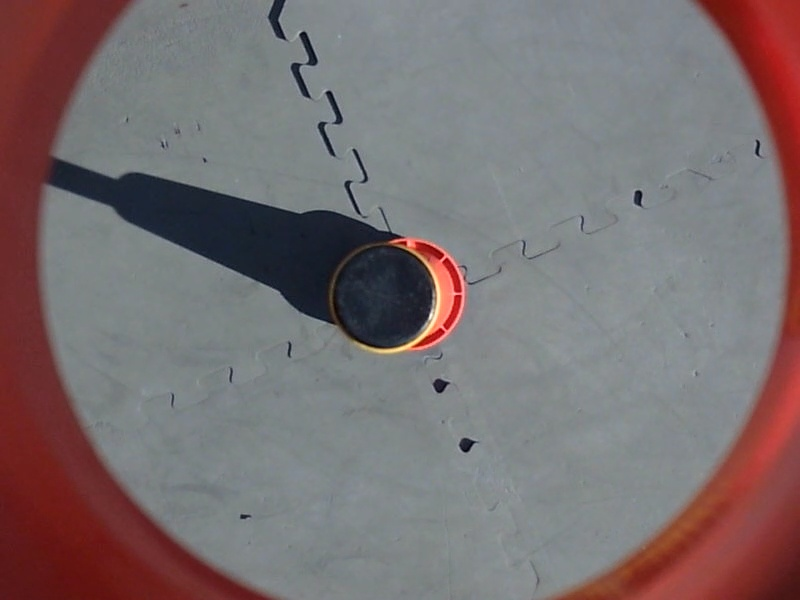tip: (329, 242, 439, 357)
